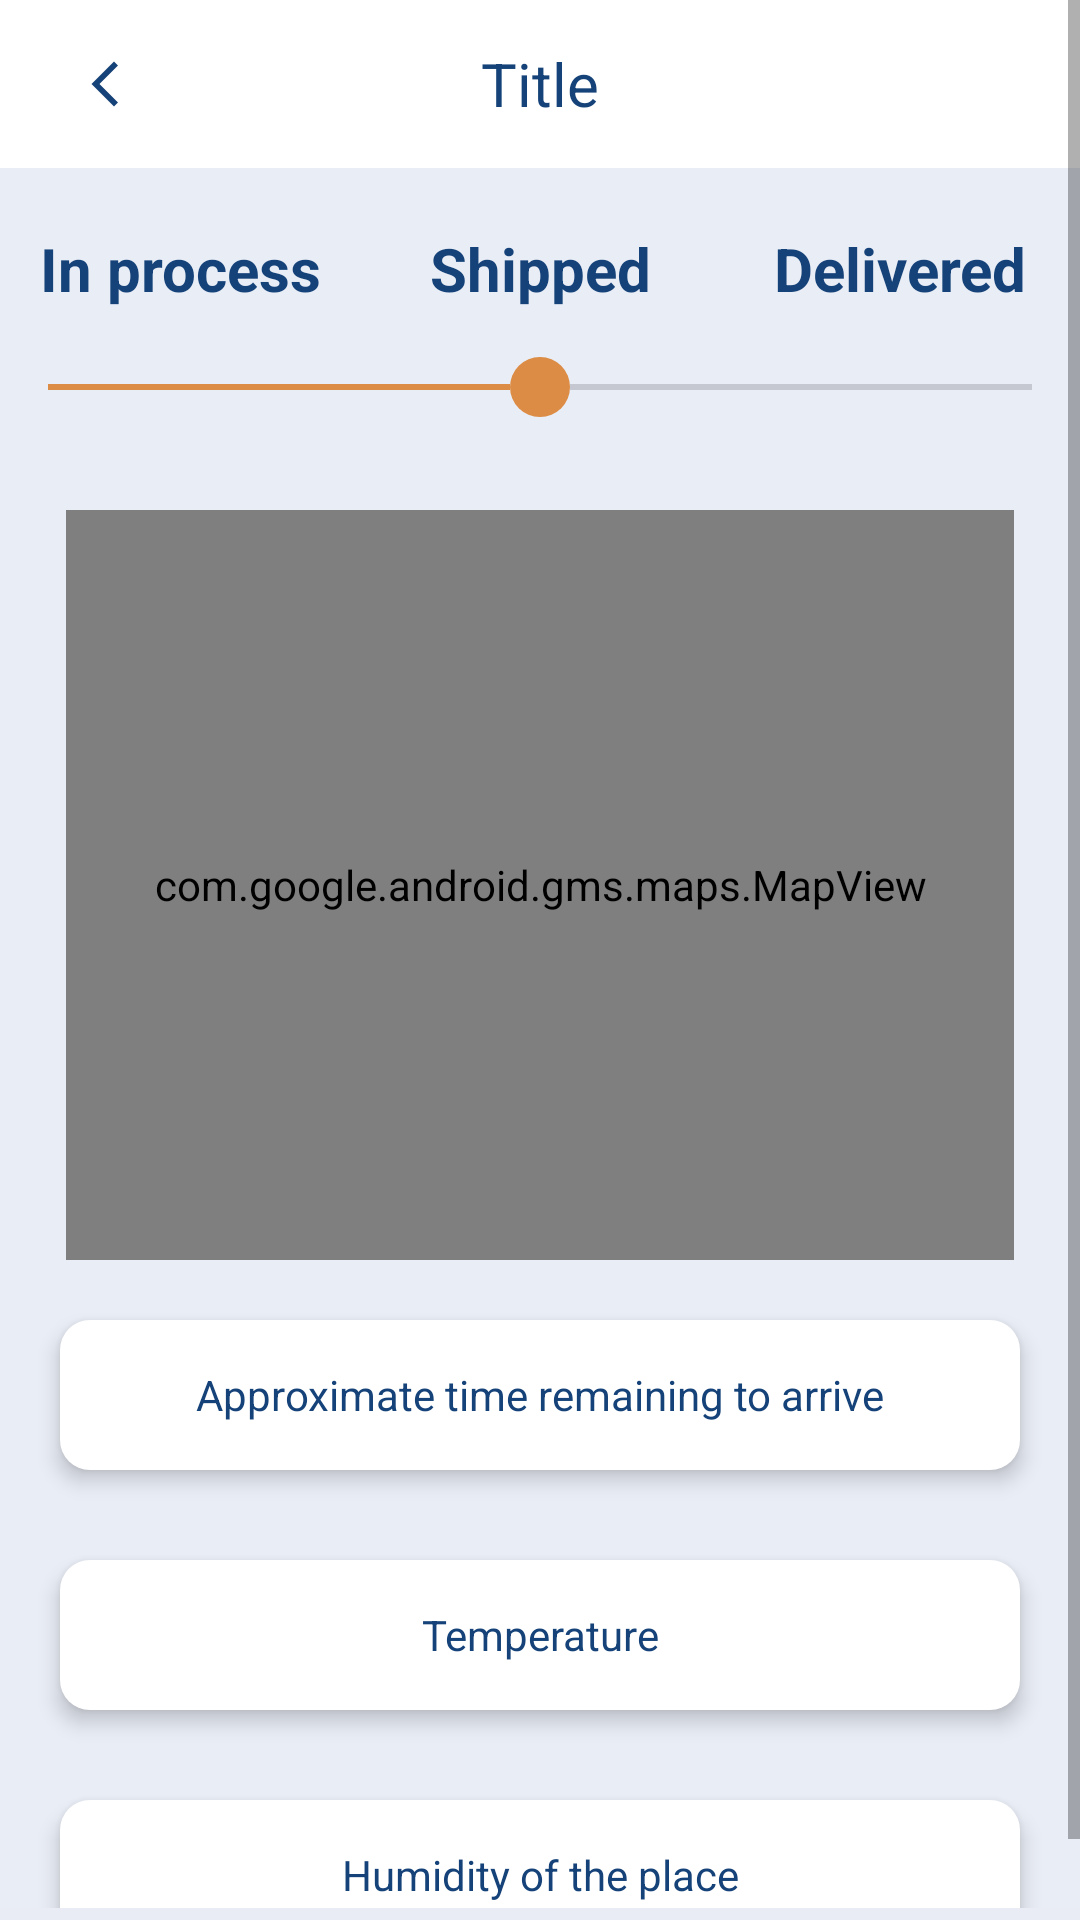

Named icons in this screenshot (1080w x 1920h) and their bounding boxes, (x1, y1, x2, y2):
Back Button: (91, 61, 118, 107)
